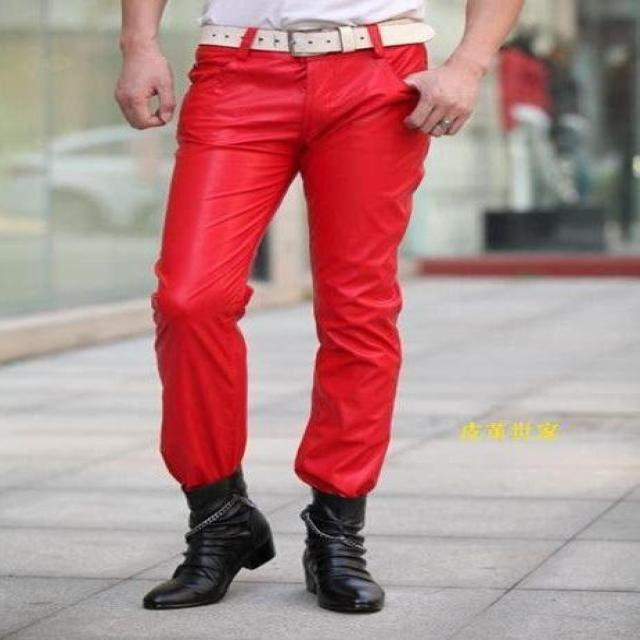pants: (152, 25, 427, 497)
